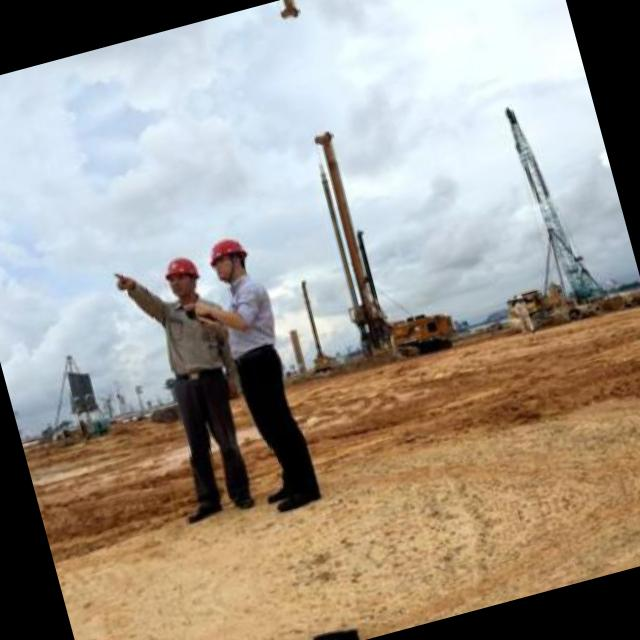helmet: (196, 222, 256, 288), (157, 242, 208, 310)
